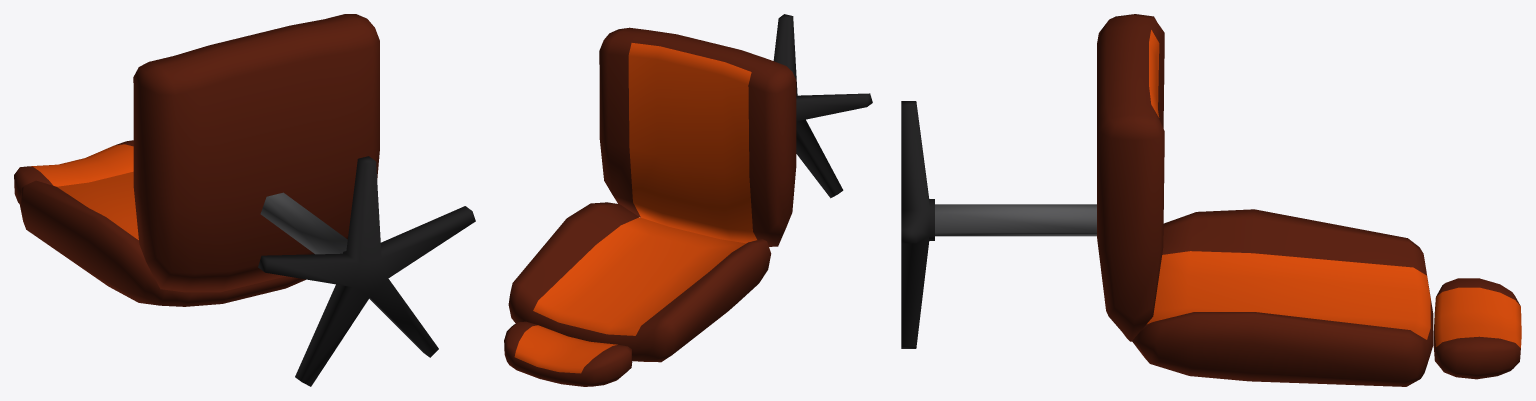
File: Chair_01.fbx
3 views of the same model, side by side, from view 1: azimuth 30°, elevation 25°; view 2: azimuth 150°, elevation 25°; view 3: azimuth 270°, elevation 25° (orthographic). The views are drawn at different scales.
Parts seen in each view (by area): view 1: Chair_01_low; view 2: Chair_01_low; view 3: Chair_01_low.
Part boxes in pixels (x1=…): Chair_01_low: x1=14, y1=14, x2=475, y2=386; Chair_01_low: x1=504, y1=14, x2=872, y2=386; Chair_01_low: x1=901, y1=14, x2=1521, y2=386.
Size of the model in its own units: 0.4912 by 0.5885 by 1.12.
